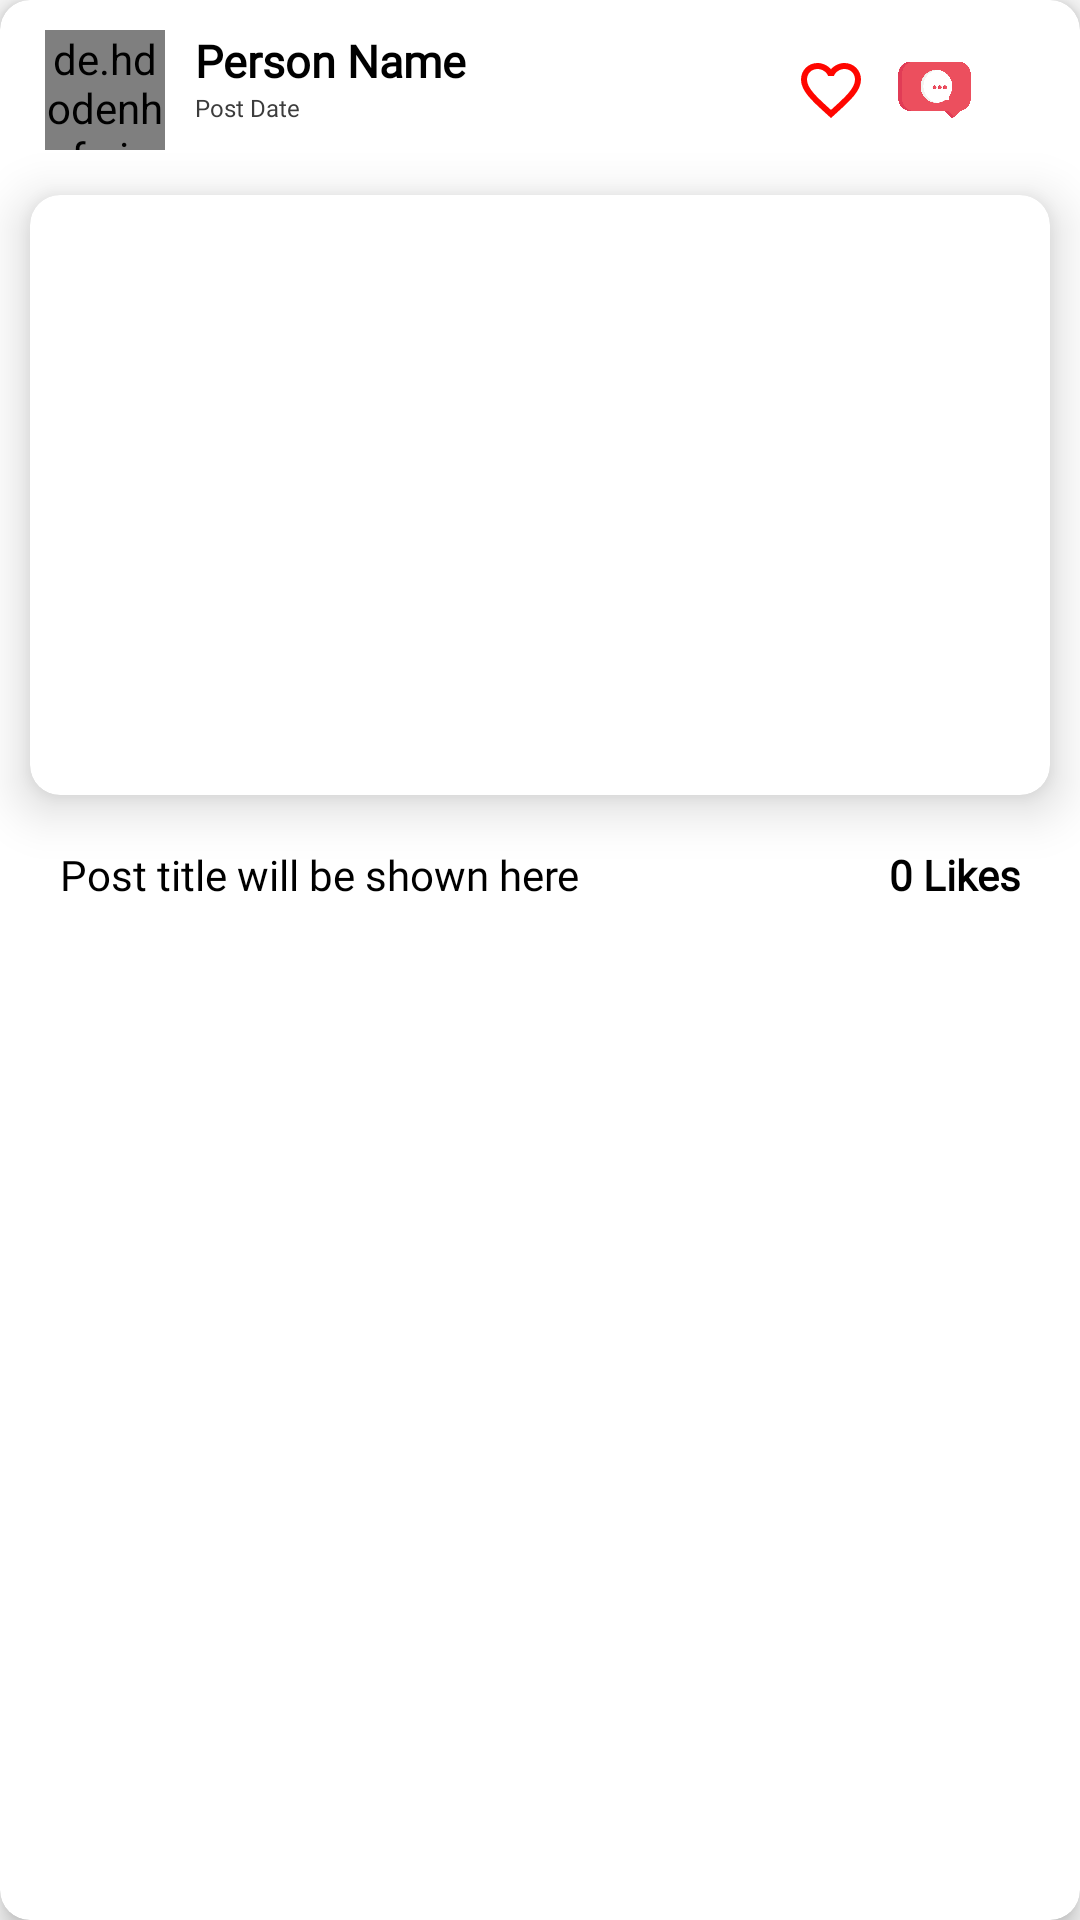

Locate icon controls on the screen. Image size 1080 × 1920, boxes as (x1, y1, x2, y2).
comment: (898, 62, 971, 118)
favorite: (801, 63, 861, 118)
